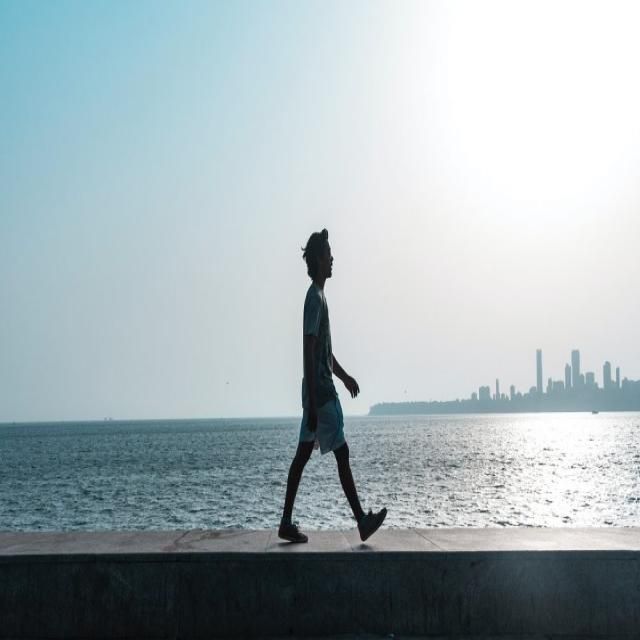Person: (278, 230, 388, 542)
